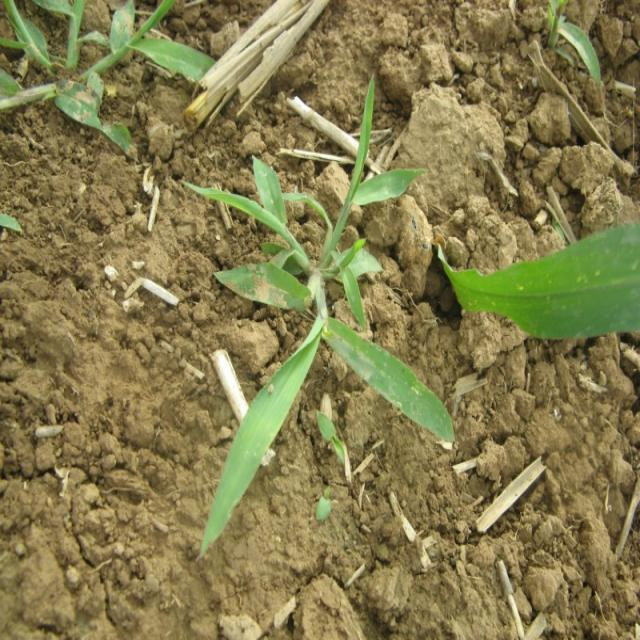bg: (186, 70, 456, 548)
